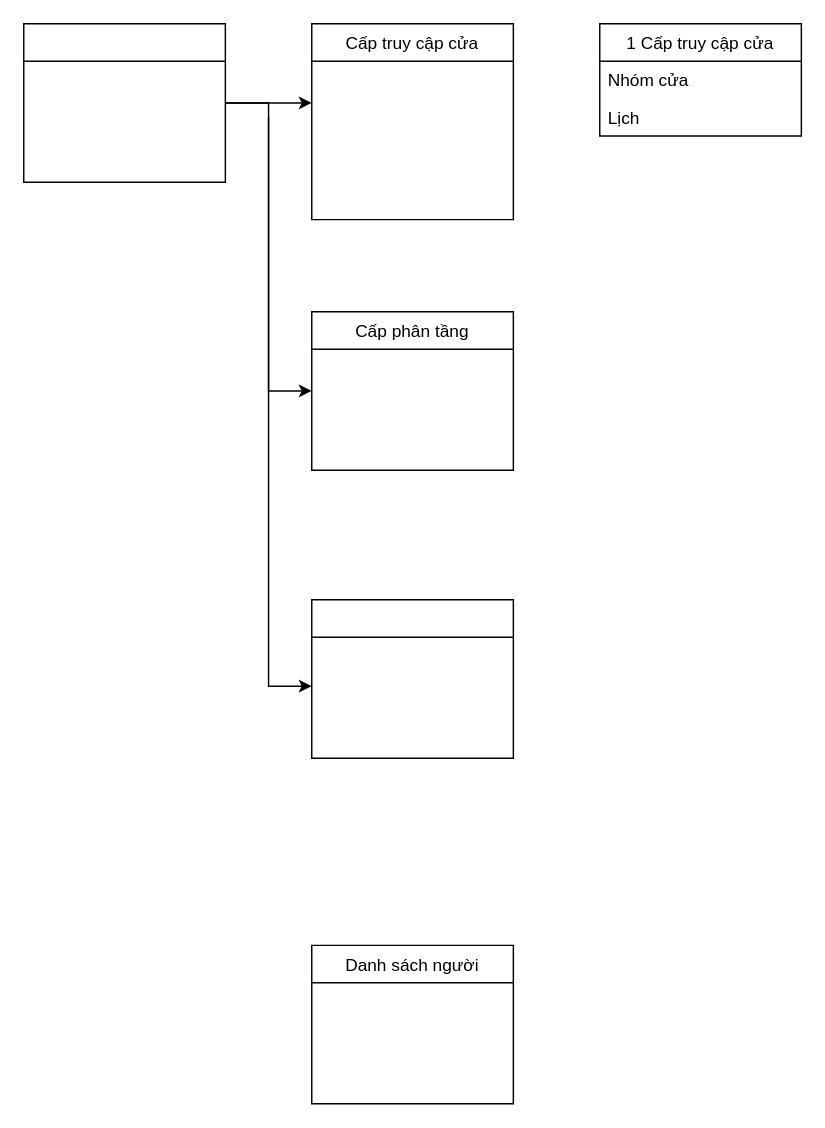
Some shapes in this 825 by 1128 pixel diagram are drawn without their labels. Here are the shapes that lost their labels. From the top down, the box of each, then its label:
(22, 22, 225, 182): nhóm quyền
(310, 598, 513, 758): Nhóm người
